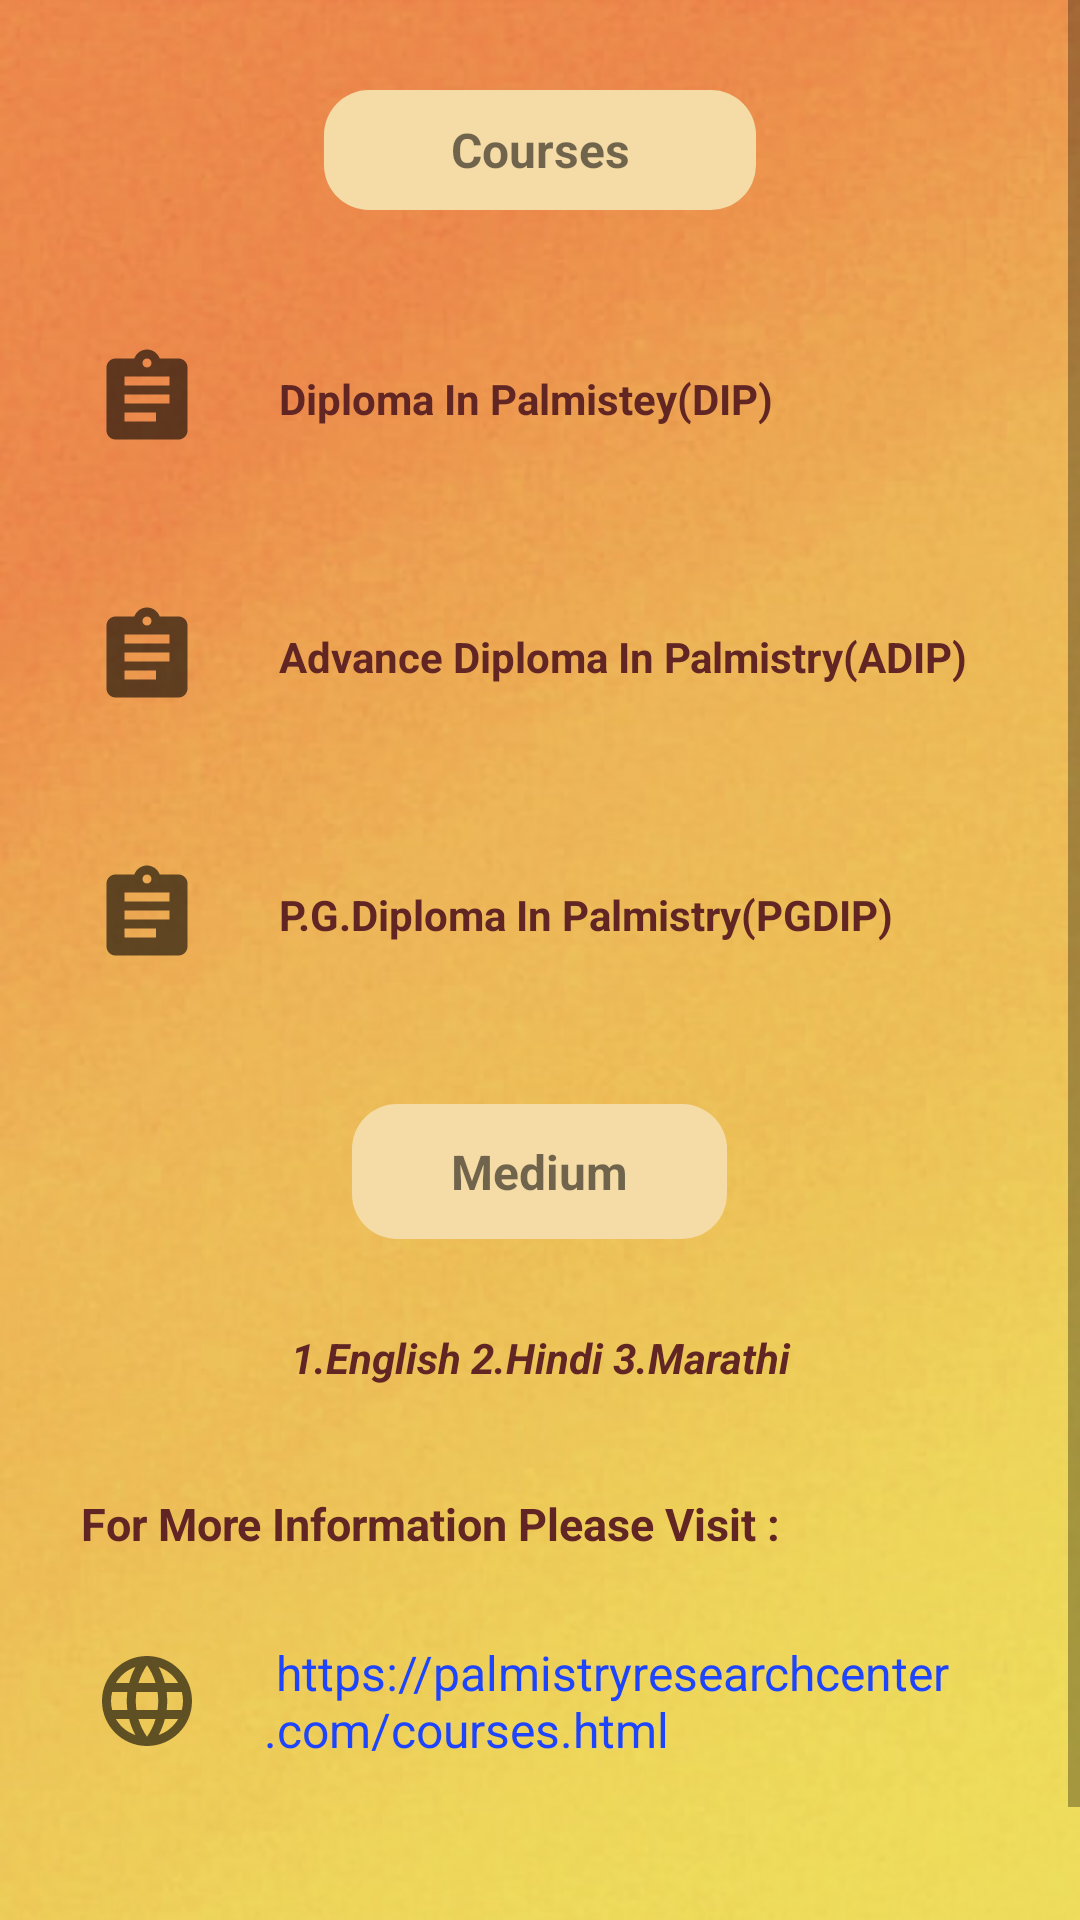

Icons on this 1080w x 1920h Android screen, each with the point to tap as point (x, y):
assignment: point (147, 394), point (147, 652), point (147, 910)
browser website: point (147, 1701)
